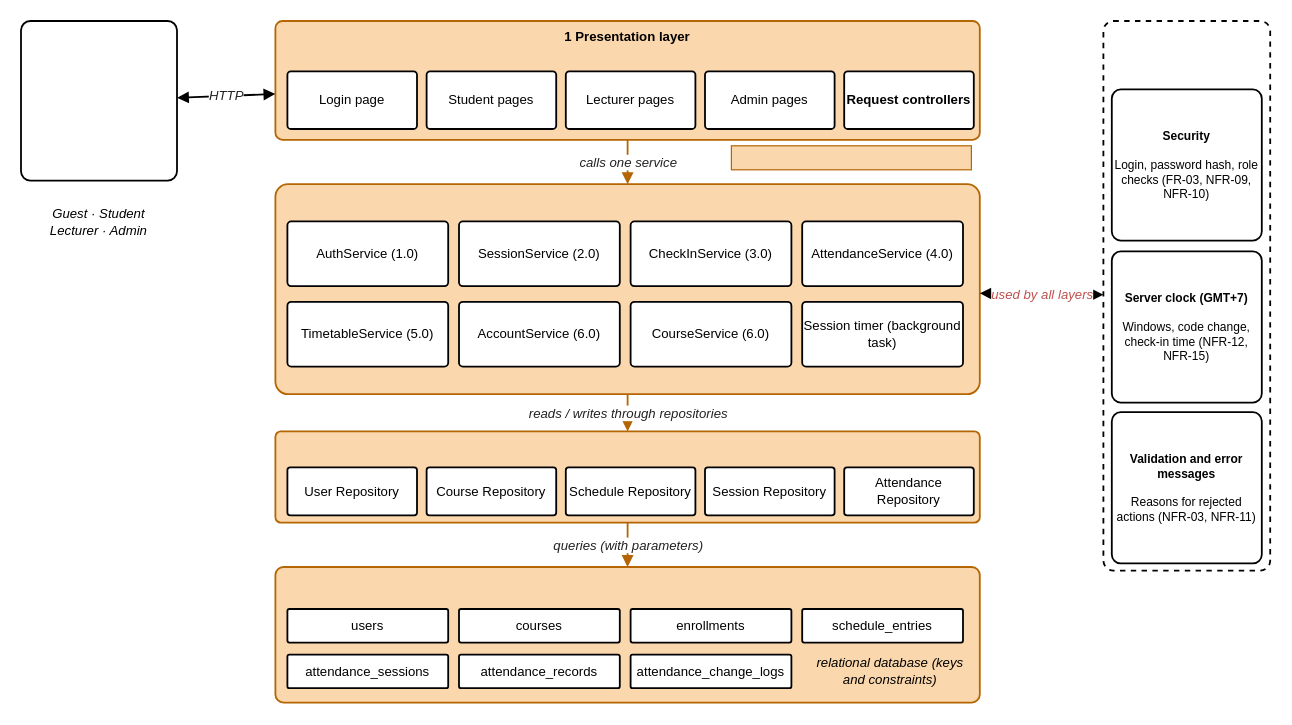
This 1292x725 diagram has some shape labels left out. Here are the shapes that lost their labels. From the top down, the box of each, then its label:
(20, 20, 177, 181): Client Web browser on a desktop or a phone Chrome, Edge, Firefox, Safari
(730, 145, 971, 170): results and reasons go back up
(274, 183, 980, 395): 2 Business layer
(1102, 20, 1271, 571): Cross-cutting services
(274, 430, 980, 523): 3 Data access layer
(274, 566, 980, 703): 4 Database
